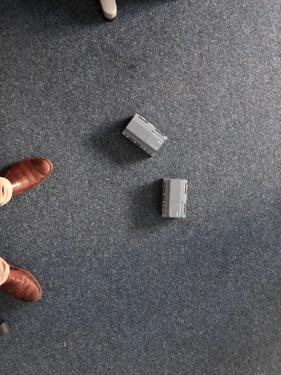device: (122, 114, 168, 157), (161, 179, 188, 218)
